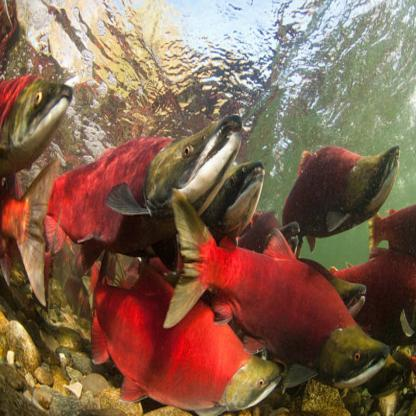sockeye: (170, 204, 383, 381), (47, 95, 244, 242), (81, 271, 281, 412), (266, 134, 403, 238)
sockeye-group: (47, 103, 392, 386)
